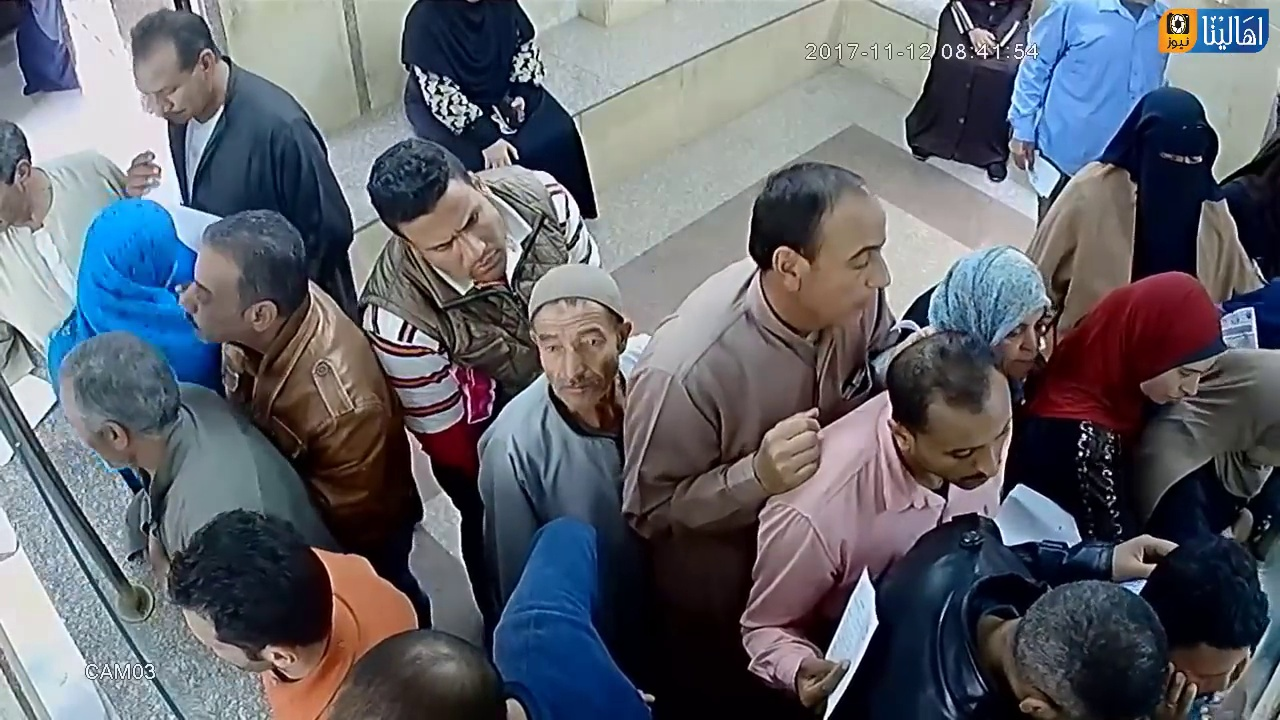face: (174, 249, 253, 358), (821, 220, 895, 333), (417, 192, 505, 276), (538, 314, 616, 406), (926, 408, 1003, 486), (132, 37, 191, 136), (1154, 339, 1215, 417), (1154, 123, 1213, 201), (999, 301, 1047, 373)
